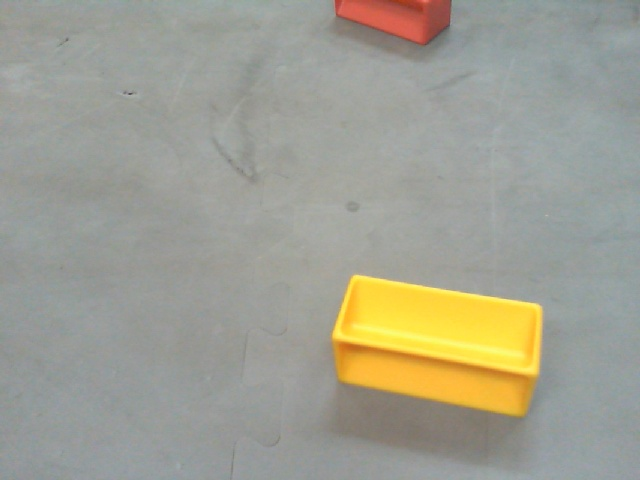RedSample: (334, 1, 452, 47)
YellowSample: (330, 273, 547, 420)
